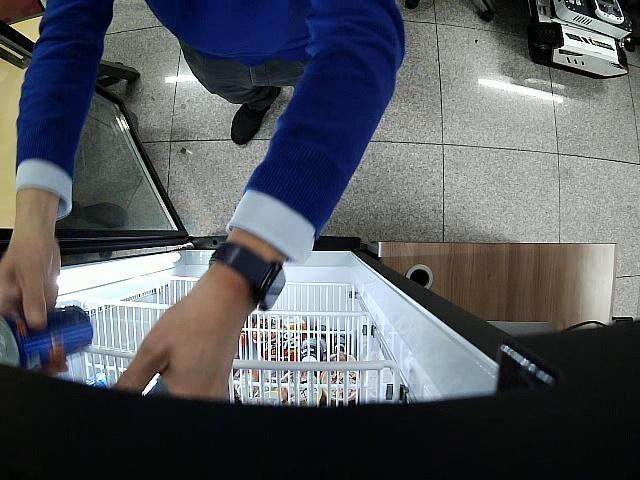16_hot6: (0, 306, 94, 373)
